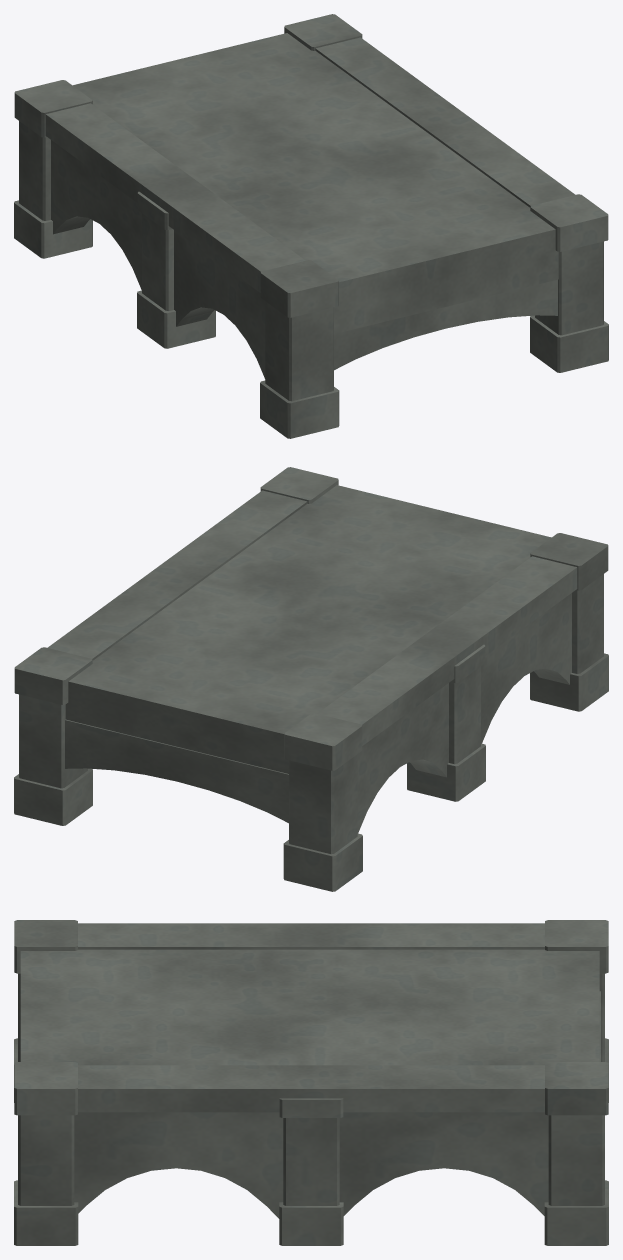
File: Path.fbx
3 renders of one model, top to bottom at view 1: azimuth 30°, elevation 25°; view 2: azimuth 150°, elevation 25°; view 3: azimuth 270°, elevation 25°, orthographic. The views are drawn at different scales.
Parts seen in each view (by area): view 1: Path.001; view 2: Path.001; view 3: Path.001.
Part boxes in pixels (left/top/right/bottom): Path.001: left=14, top=14, right=608, bottom=438; Path.001: left=14, top=467, right=608, bottom=891; Path.001: left=14, top=920, right=608, bottom=1245.
Size of the model in its own units: 6.22 by 2.69 by 9.25.
1 material, 1 textured.
